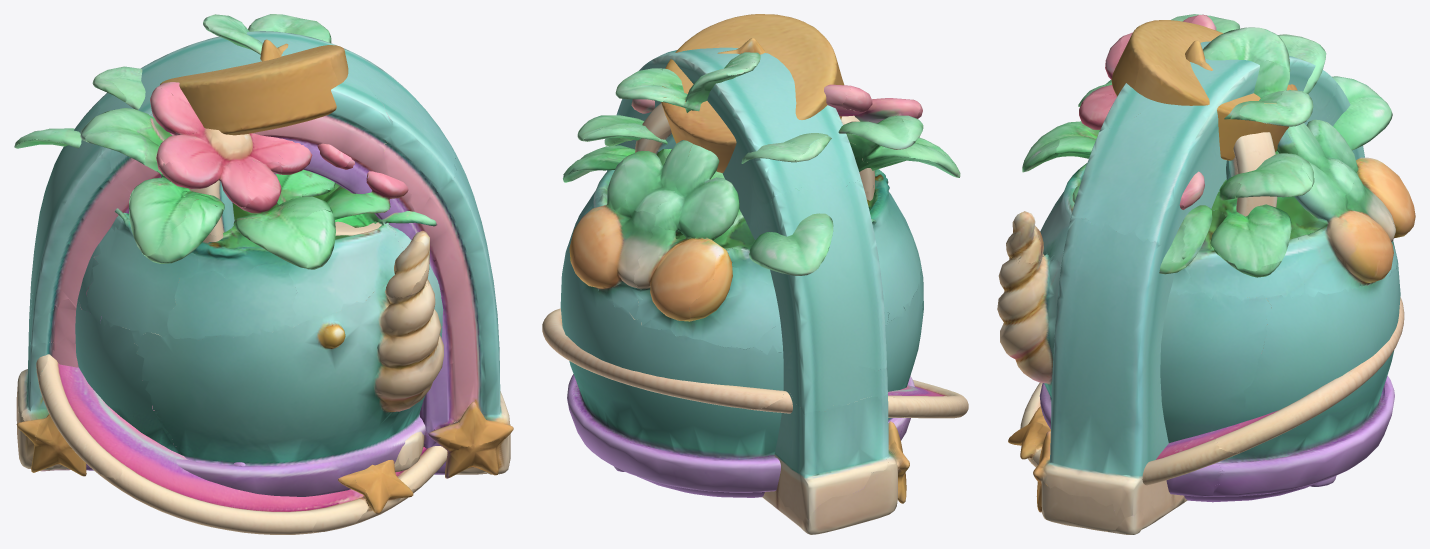
The model's file is store_items_sheet_18_mobile.glb.
The picture shows the model from 3 angles, left to right: view 1: azimuth 30°, elevation 25°; view 2: azimuth 150°, elevation 25°; view 3: azimuth 270°, elevation 25°; orthographic projection. The views are drawn at different scales.
Visible parts, largest first — view 1: uni_horn_planter, uni_rainbow_shelf, uni_glitter_rug, uni_cloud_lamp, ac_menu_board; view 2: uni_horn_planter, uni_rainbow_shelf, uni_cloud_lamp, uni_glitter_rug, ac_menu_board; view 3: uni_horn_planter, uni_rainbow_shelf, uni_glitter_rug, uni_cloud_lamp, ac_menu_board.
Boxes of the visible parts, x1=… form: uni_horn_planter: x1=14, y1=14, x2=443, y2=496; uni_rainbow_shelf: x1=16, y1=31, x2=513, y2=478; uni_glitter_rug: x1=36, y1=354, x2=455, y2=534; uni_cloud_lamp: x1=160, y1=45, x2=348, y2=174; ac_menu_board: x1=189, y1=39, x2=288, y2=466; uni_horn_planter: x1=560, y1=52, x2=960, y2=497; uni_rainbow_shelf: x1=607, y1=47, x2=909, y2=534; uni_cloud_lamp: x1=661, y1=14, x2=844, y2=172; uni_glitter_rug: x1=542, y1=308, x2=968, y2=418; ac_menu_board: x1=614, y1=38, x2=874, y2=471; uni_horn_planter: x1=997, y1=14, x2=1415, y2=502; uni_rainbow_shelf: x1=1033, y1=41, x2=1364, y2=534; uni_glitter_rug: x1=1008, y1=283, x2=1404, y2=485; uni_cloud_lamp: x1=1111, y1=20, x2=1297, y2=160; ac_menu_board: x1=1185, y1=40, x2=1336, y2=486.
Size of the model in its own units: 1.55 by 1.55 by 1.44.
1 material, 1 textured.
